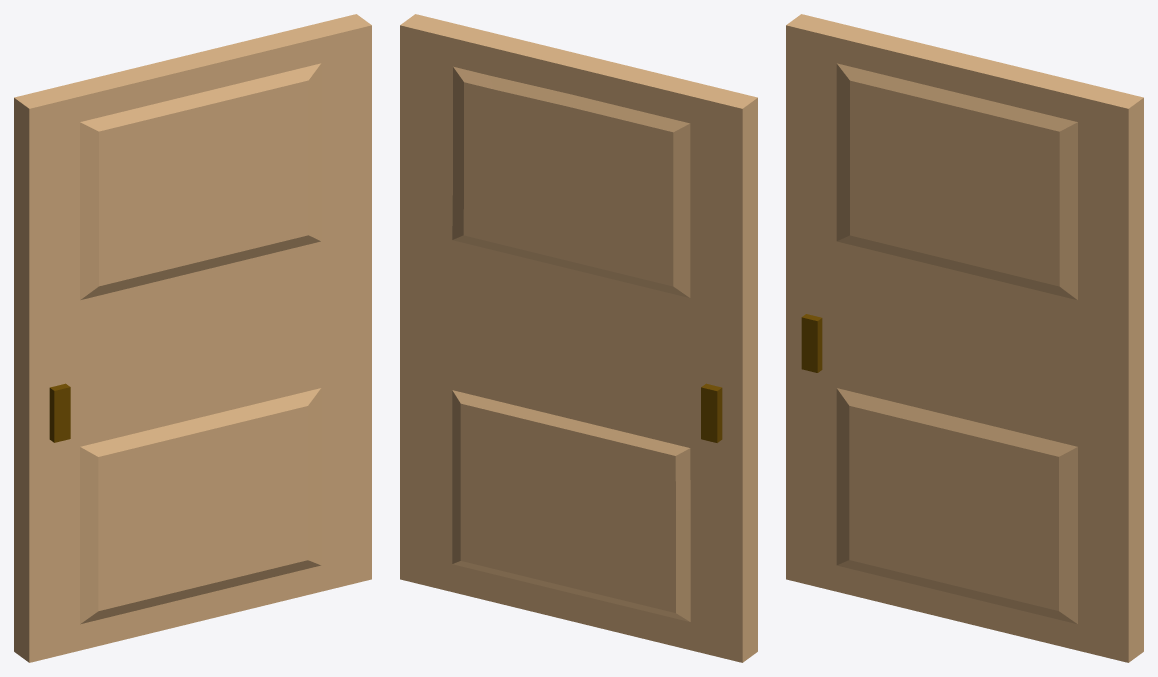
The model's file is kitchen_door (1).fbx.
3 views of the same model, side by side, from view 1: azimuth 30°, elevation 25°; view 2: azimuth 150°, elevation 25°; view 3: azimuth 330°, elevation 25° (orthographic).
Parts seen in each view (by area): view 1: door; view 2: door; view 3: door.
Part boxes in pixels (bbox=[...]): door: bbox=[14, 14, 371, 662]; door: bbox=[400, 14, 757, 662]; door: bbox=[786, 14, 1143, 662].
Bounding box in the file's own units: 21.27 × 32.87 × 2.71.
